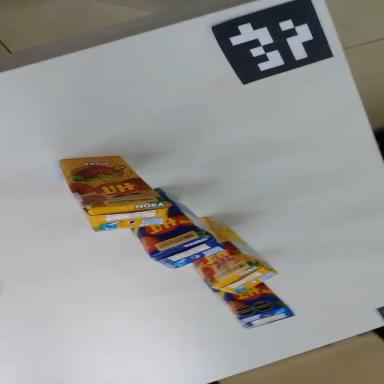HIT-MANGO: (119, 185, 228, 290), (211, 270, 294, 334)
HIT-MORA: (164, 203, 278, 314), (59, 150, 172, 234)
cara_F: (118, 186, 207, 275), (173, 215, 253, 296), (61, 151, 168, 211), (211, 269, 287, 325)
